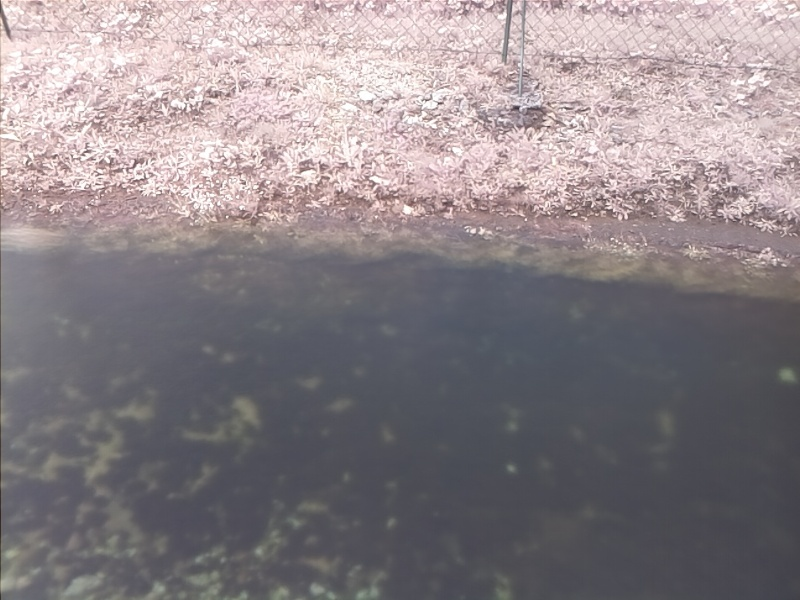Water: (1, 213, 797, 600)
